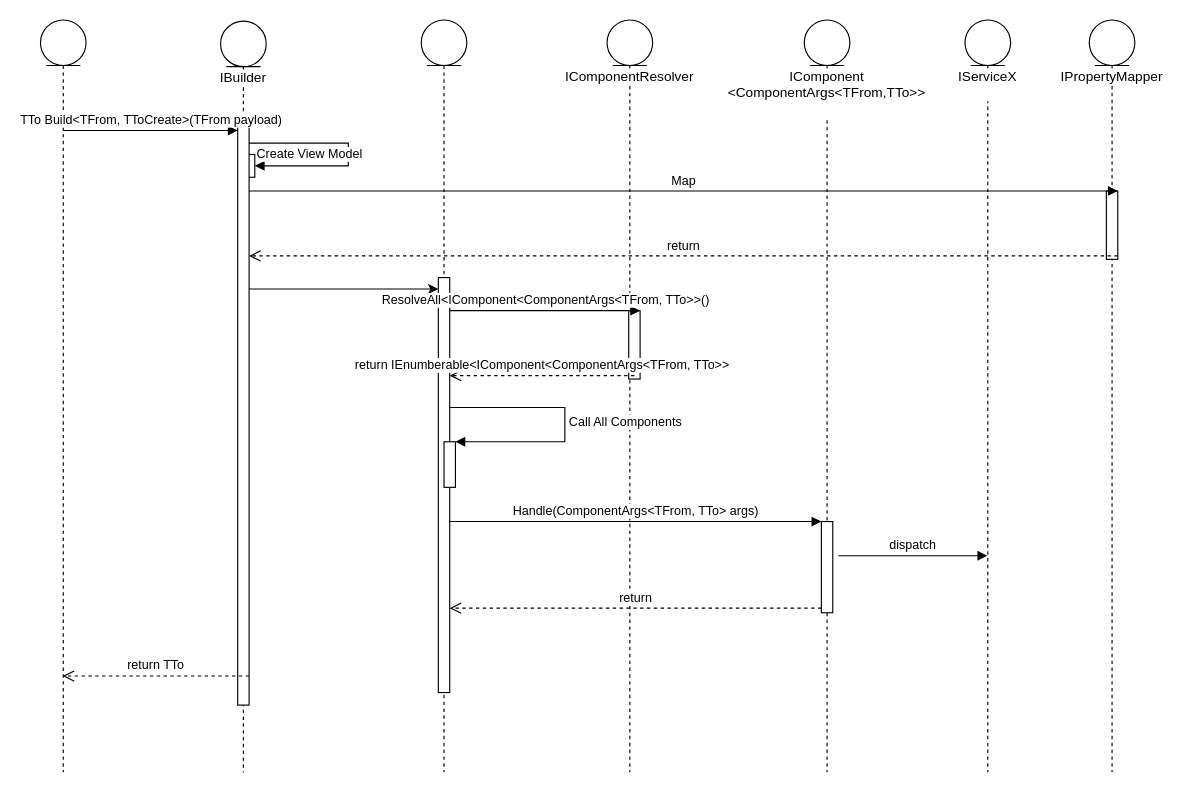
Some shapes in this 1182 by 792 pixel diagram are drawn without their labels. The box of each missing label's shape, as (x1, y1, x2, y2) in pixels:
Controller: (39, 19, 86, 772)
IComponentPipeline: (420, 19, 467, 772)
